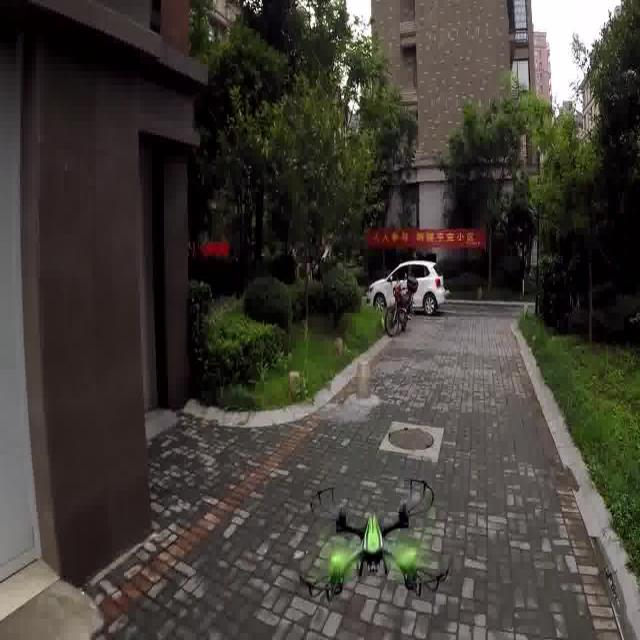drone: (289, 469, 447, 609)
